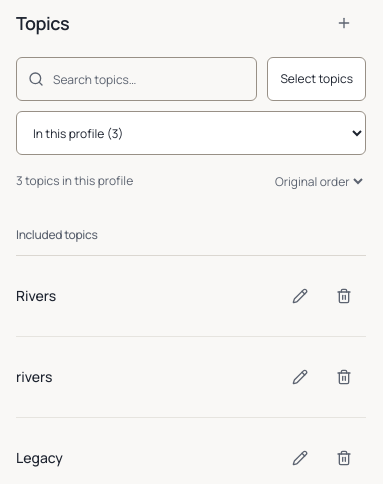
Test: CustomProfileTopics › library checkboxes preserve case variants and never rewrite a saved topic to a library spelling
The width and height of the screenshot is (383, 484).
Later steps or results of the test are not shown.
Select "Topic library (3)" in the dropdown named "Topic view": (191, 133) [16, 111, 366, 155]
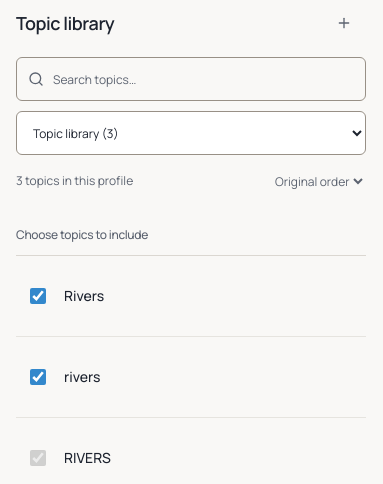
expect the checkbox named "Include RIVERS" is checked: met, box [30, 450, 46, 466]
expect the checkbox named "Include RIVERS" is disabled: met, box [30, 450, 46, 466]
